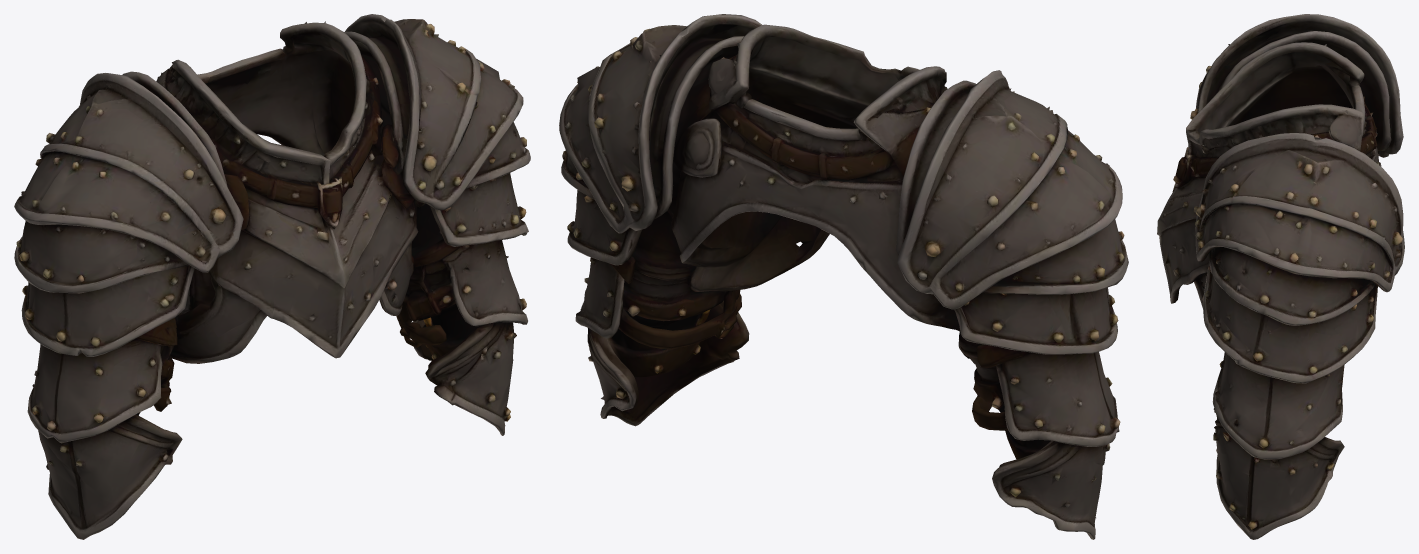
The model's file is heavy_torso.glb.
The picture shows the model from 3 angles, left to right: view 1: azimuth 30°, elevation 25°; view 2: azimuth 150°, elevation 25°; view 3: azimuth 270°, elevation 25°; orthographic projection. The views are drawn at different scales.
Visible parts, largest first — view 1: tripo_node_52eb63d3-adf7-4aad-88b9-44a6afd1a091; view 2: tripo_node_52eb63d3-adf7-4aad-88b9-44a6afd1a091; view 3: tripo_node_52eb63d3-adf7-4aad-88b9-44a6afd1a091.
Part boxes in pixels (x1=…): tripo_node_52eb63d3-adf7-4aad-88b9-44a6afd1a091: x1=14, y1=14, x2=530, y2=539; tripo_node_52eb63d3-adf7-4aad-88b9-44a6afd1a091: x1=559, y1=14, x2=1128, y2=539; tripo_node_52eb63d3-adf7-4aad-88b9-44a6afd1a091: x1=1157, y1=14, x2=1404, y2=539.
Bounding box in the file's own units: 0.9802 × 0.7942 × 0.4736.
1 material, 1 textured.
